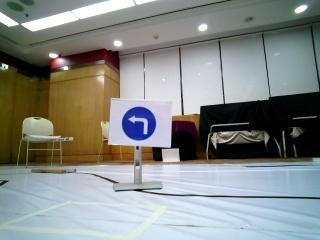left: (114, 100, 166, 148)
